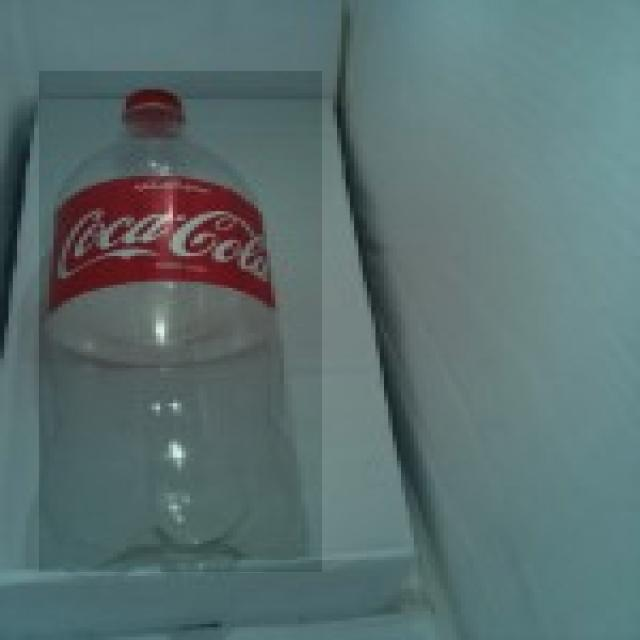bottle: (39, 71, 323, 572)
cap: (120, 86, 191, 120)
label: (50, 185, 294, 314)
